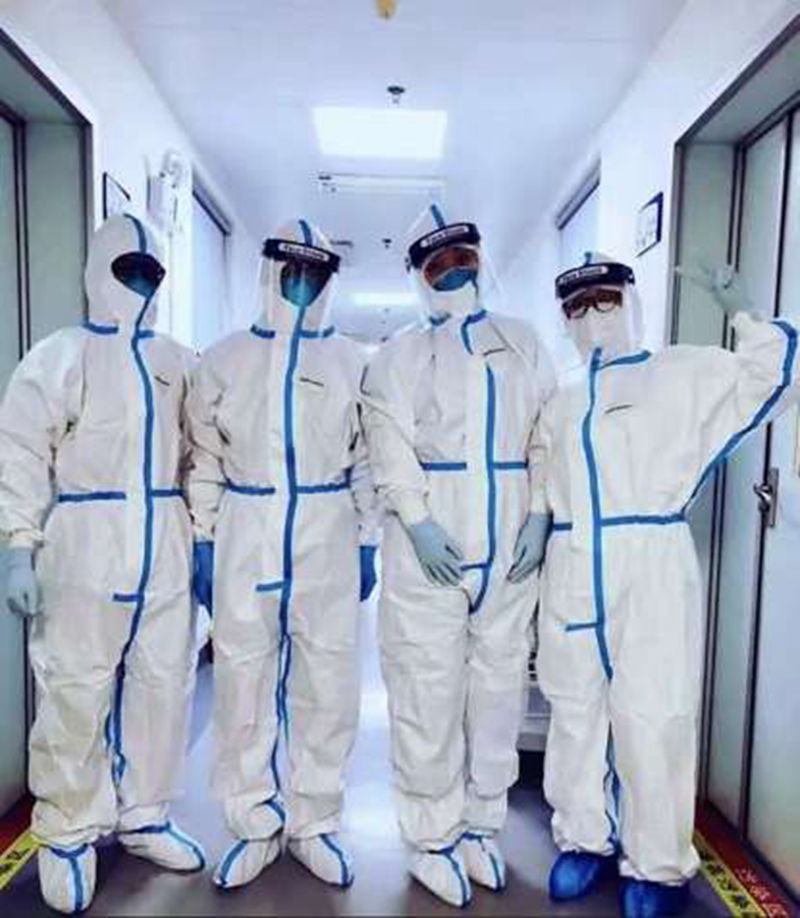Coverall: (532, 254, 789, 848), (1, 214, 190, 830), (371, 213, 555, 836), (209, 216, 377, 836)
Gloves: (668, 253, 760, 322), (406, 519, 463, 594), (503, 512, 552, 588), (1, 551, 43, 616)
